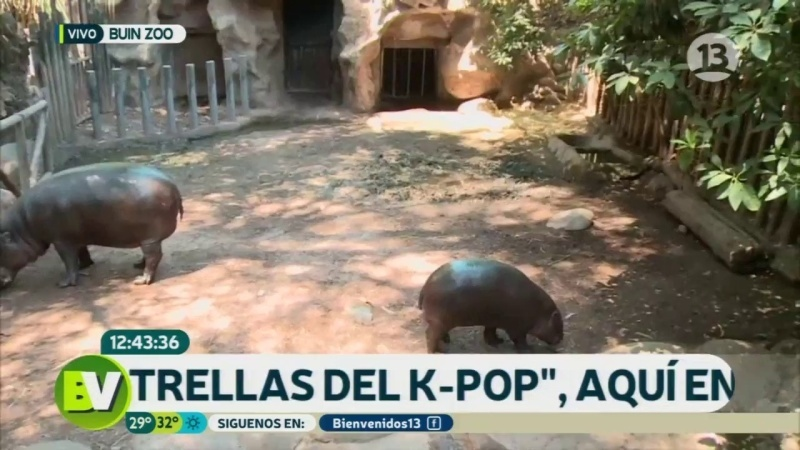hipopotamo: (1, 148, 207, 314), (398, 249, 611, 355)
